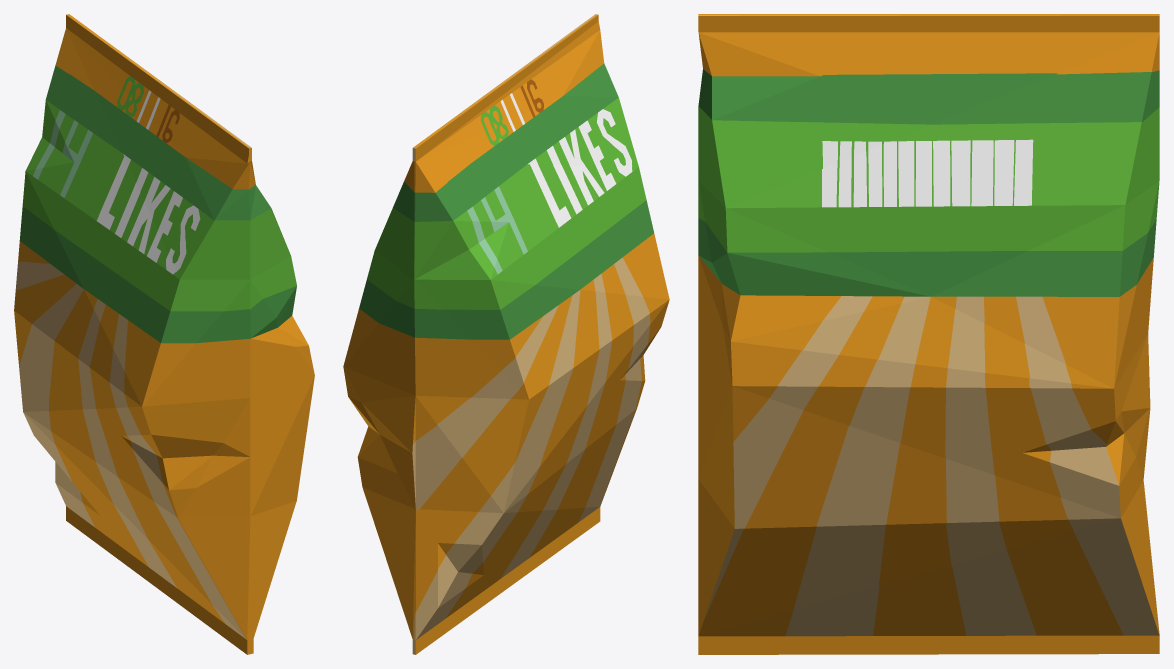
Rendered from ChipsBagl.obj.
3 renders of one model, left to right at view 1: azimuth 30°, elevation 25°; view 2: azimuth 150°, elevation 25°; view 3: azimuth 270°, elevation 25°, orthographic. The views are drawn at different scales.
Parts seen in each view (by area): view 1: group478861069; view 2: group478861069; view 3: group478861069.
Boxes of the visible parts, <box> form: group478861069: <box>14,14,314,654</box>; group478861069: <box>343,14,669,654</box>; group478861069: <box>698,14,1159,654</box>.
Bounding box in the file's own units: 0.8384 × 2.26 × 1.48.
